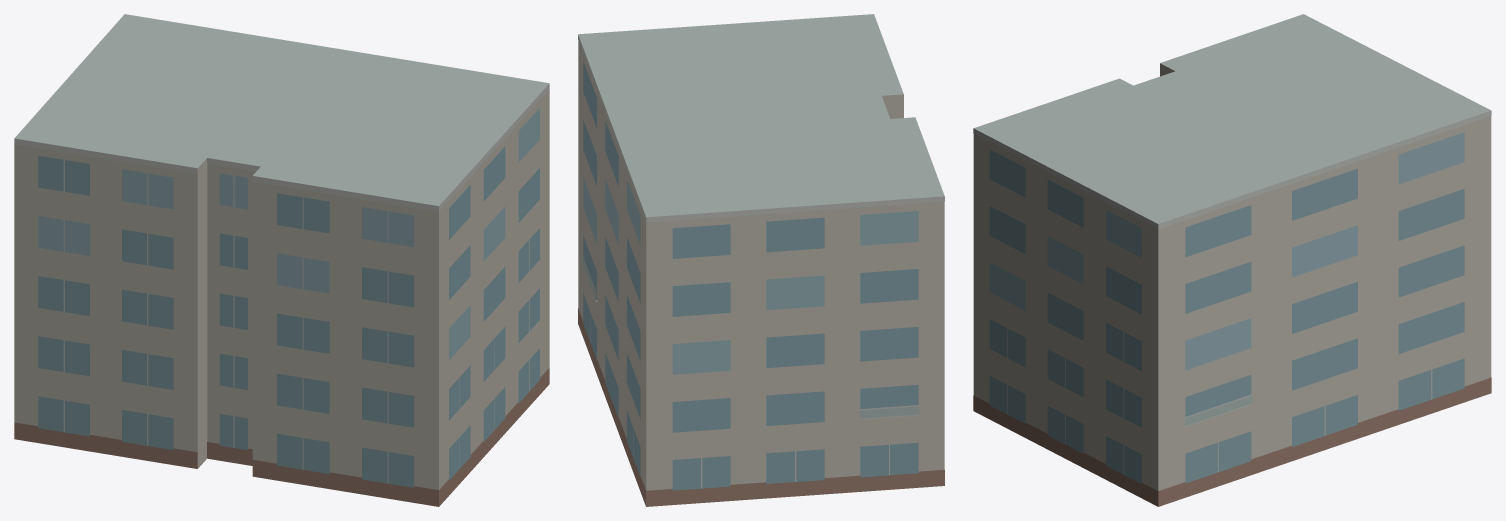
Rendered from survey-upis-32724212.glb.
The picture shows the model from 3 angles, left to right: view 1: azimuth 30°, elevation 25°; view 2: azimuth 150°, elevation 25°; view 3: azimuth 270°, elevation 25°; orthographic projection. The views are drawn at different scales.
Visible parts, largest first — view 1: survey-upis-32724212.tmp; view 2: survey-upis-32724212.tmp; view 3: survey-upis-32724212.tmp.
Boxes of the visible parts, <box> form: survey-upis-32724212.tmp: <box>14,14,549,506</box>; survey-upis-32724212.tmp: <box>578,14,944,506</box>; survey-upis-32724212.tmp: <box>973,14,1491,506</box>.
Bounding box in the file's own units: 20.89 × 13.1 × 21.76.
